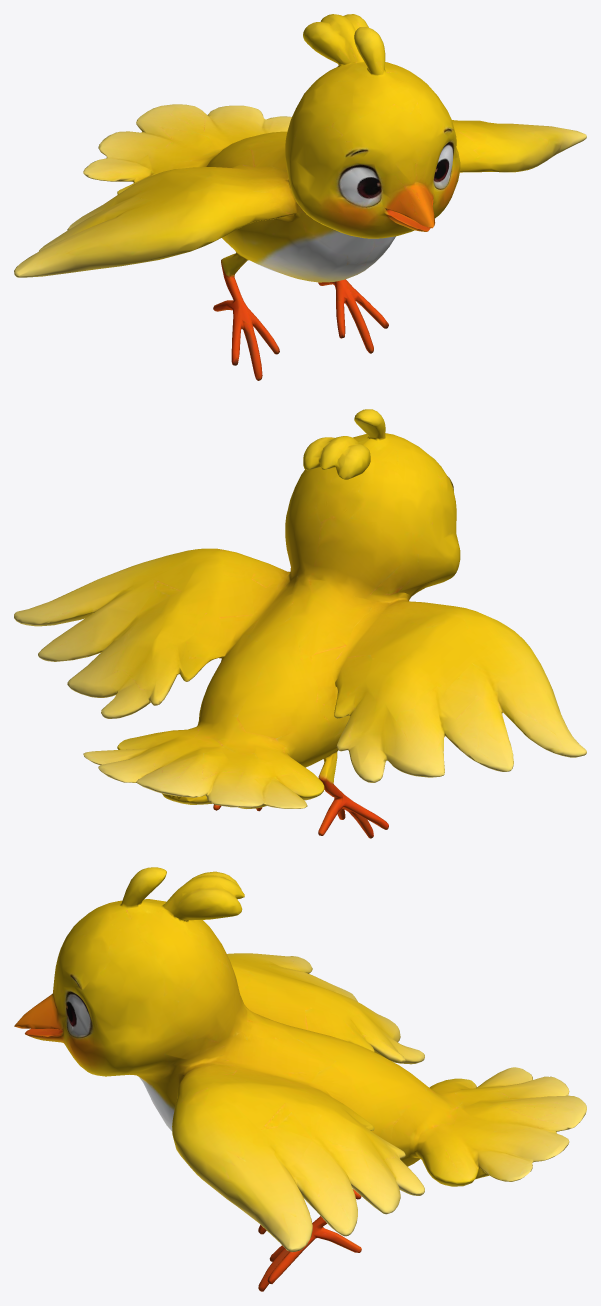
File: bird.glb
The picture shows the model from 3 angles, top to bottom: view 1: azimuth 30°, elevation 25°; view 2: azimuth 150°, elevation 25°; view 3: azimuth 270°, elevation 25°; orthographic projection. The views are drawn at different scales.
Bounding box in the file's own units: 1.9 × 1.19 × 1.57.
Materials: 1 (1 with a texture image).
